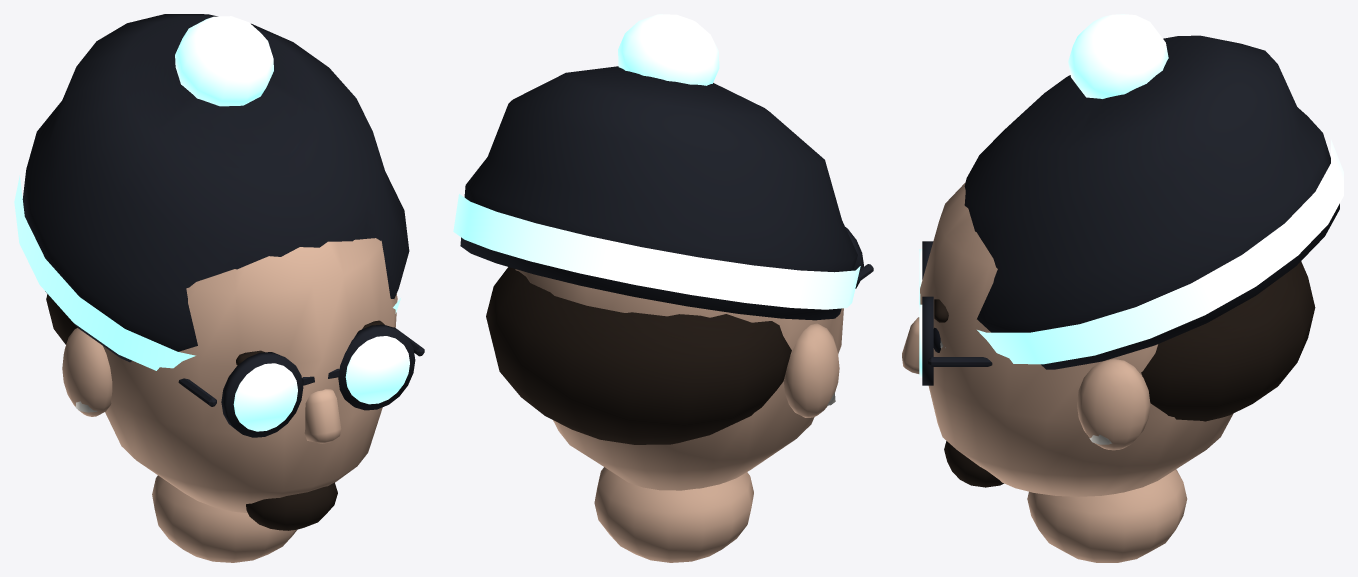
Rendered from coder_head_1.glb.
3 views of the same model, side by side, from view 1: azimuth 30°, elevation 25°; view 2: azimuth 150°, elevation 25°; view 3: azimuth 270°, elevation 25° (orthographic). The views are drawn at different scales.
Visible parts, largest first — view 1: CoderPart; view 2: CoderPart; view 3: CoderPart.
Part boxes in pixels (x1,y1,x2,y2): CoderPart: (14, 14, 424, 562); CoderPart: (453, 14, 873, 562); CoderPart: (902, 14, 1343, 562).
Bounding box in the file's own units: 0.25 × 0.3693 × 0.2761.
